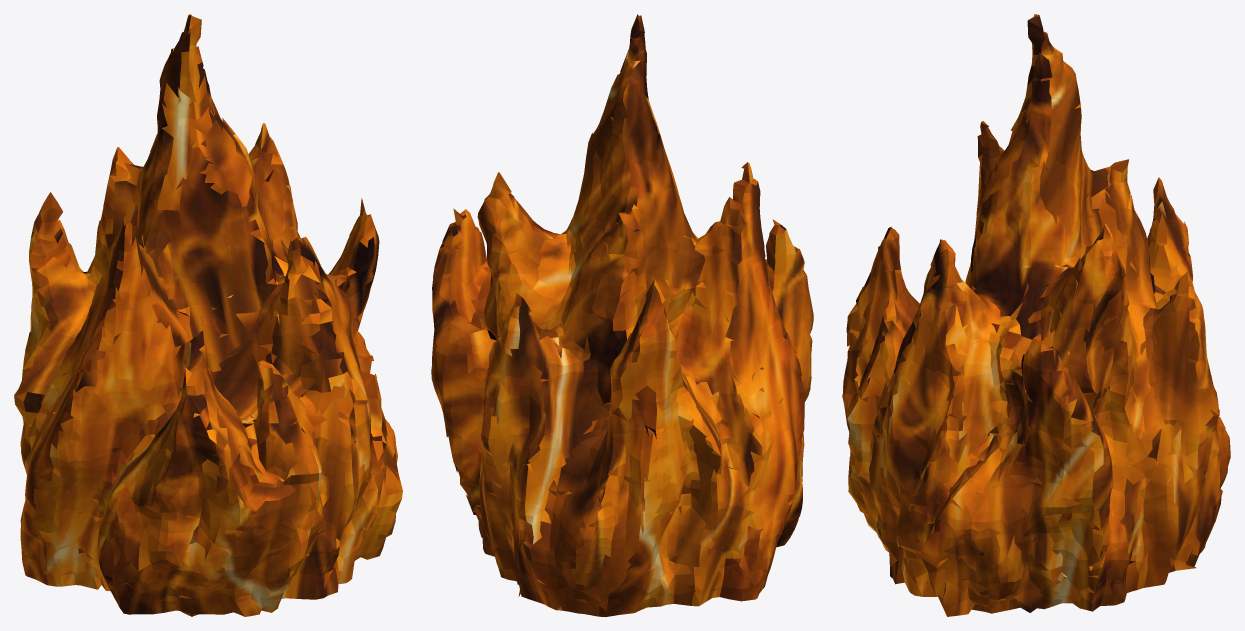
File: explode.obj
3 views of the same model, side by side, from view 1: azimuth 30°, elevation 25°; view 2: azimuth 150°, elevation 25°; view 3: azimuth 270°, elevation 25° (orthographic).
Parts seen in each view (by area): view 1: YELLOW-flame-tree-top; view 2: YELLOW-flame-tree-top; view 3: YELLOW-flame-tree-top.
Boxes of the visible parts, x1,y1,x2,y2 form: YELLOW-flame-tree-top: [14, 14, 402, 616]; YELLOW-flame-tree-top: [431, 14, 813, 616]; YELLOW-flame-tree-top: [842, 14, 1230, 616].
Size of the model in its own units: 1.19 by 1.73 by 1.14.
1 material, 1 textured.
